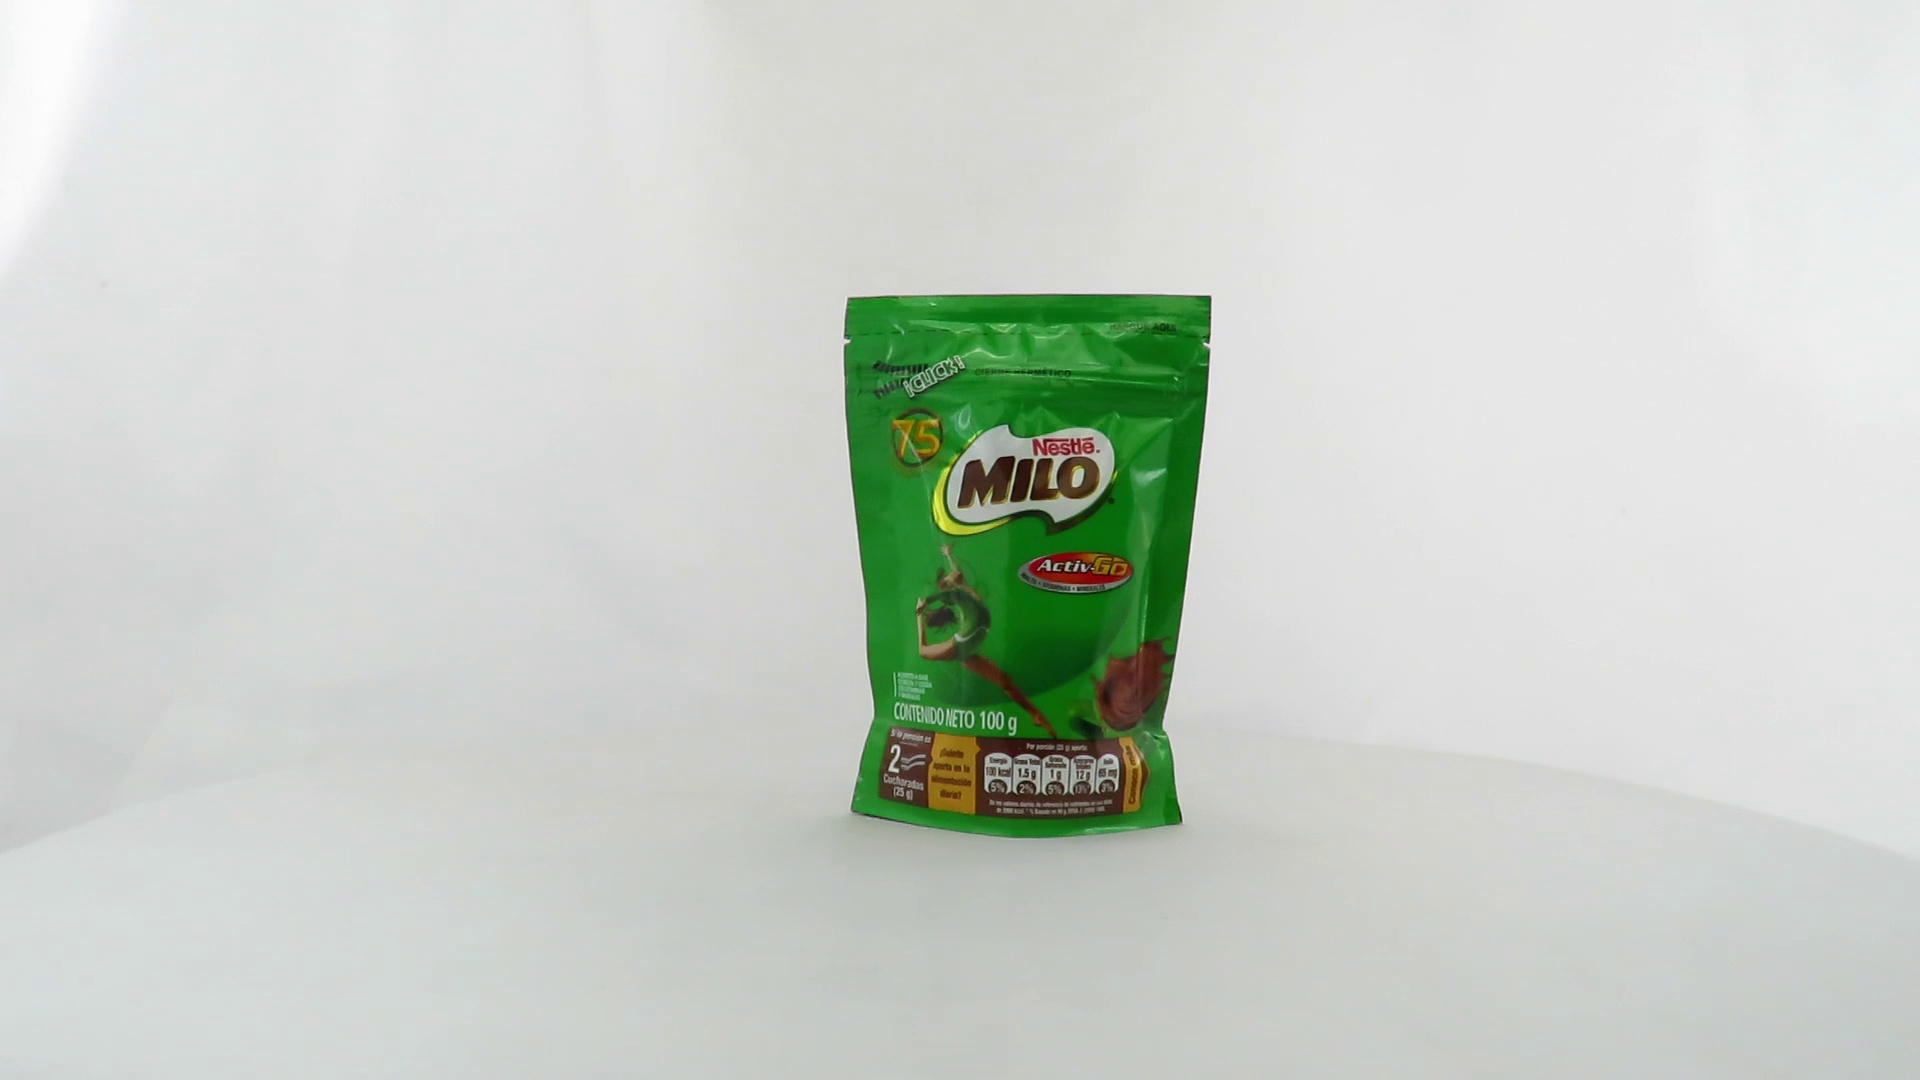COL0170203DYP10000: (837, 287, 1218, 845)
